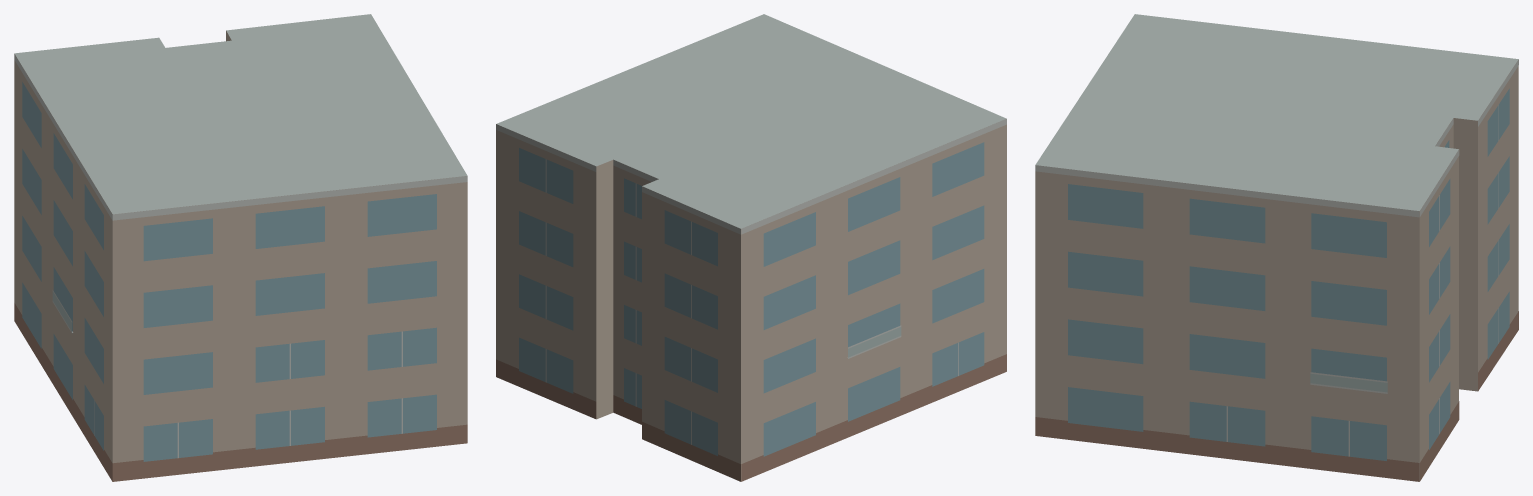
Rendered from survey-upis-32821545.glb.
The picture shows the model from 3 angles, left to right: view 1: azimuth 30°, elevation 25°; view 2: azimuth 150°, elevation 25°; view 3: azimuth 270°, elevation 25°; orthographic projection. The views are drawn at different scales.
Parts seen in each view (by area): view 1: survey-upis-32821545.tmp; view 2: survey-upis-32821545.tmp; view 3: survey-upis-32821545.tmp.
Part boxes in pixels (x1,y1,x2,y2): survey-upis-32821545.tmp: (14,14,467,481); survey-upis-32821545.tmp: (496,14,1006,481); survey-upis-32821545.tmp: (1035,14,1518,481).
Size of the model in its own units: 16.49 by 10.55 by 17.09.
